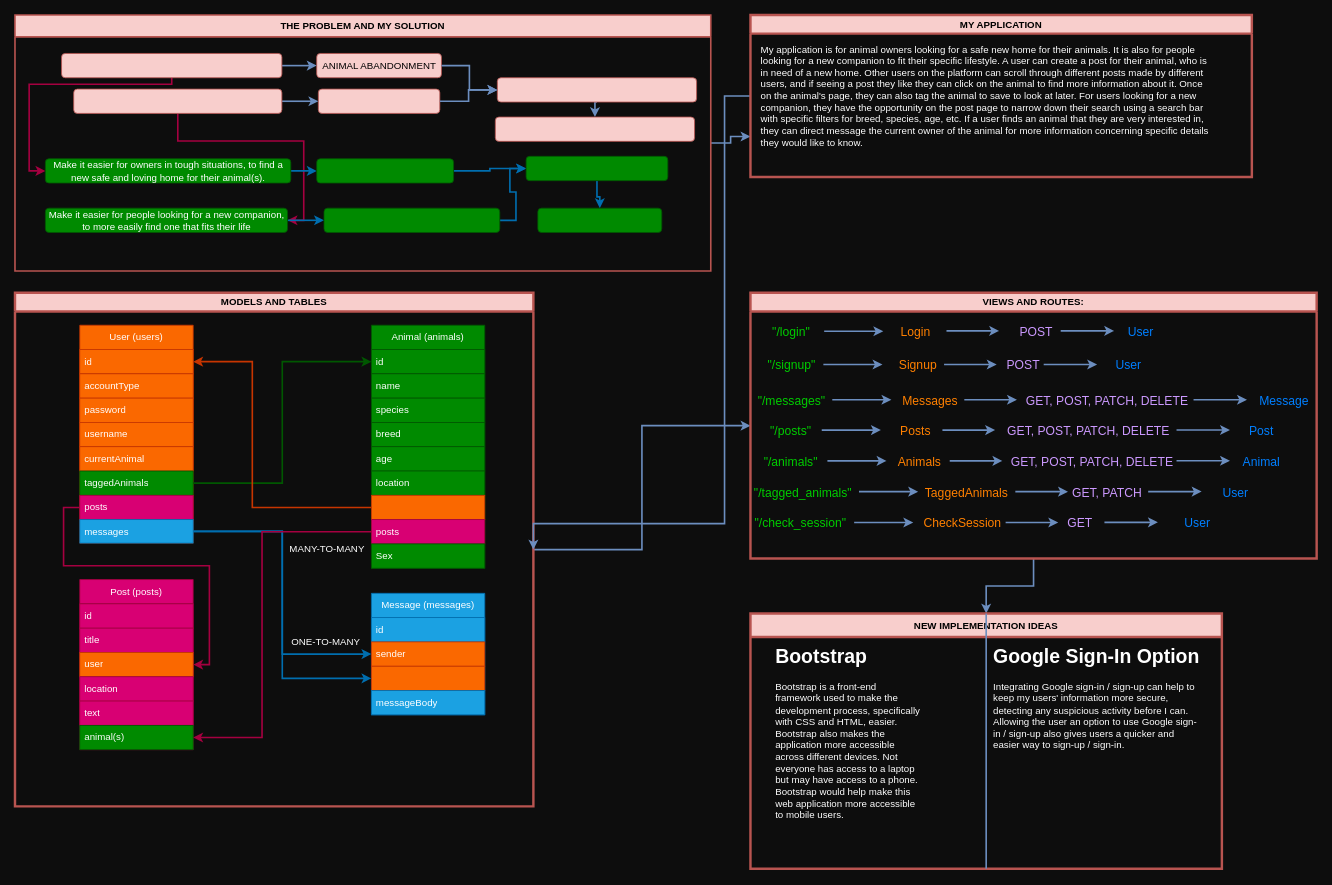
Some shapes in this 1332 by 885 pixel diagram are drawn without their labels. The shapes that lost their labels are listed below. From the top down, each one's centre as x and y in pixels, then its label:
At pixel 171 65: "TOUGH SITUATIONS WITHOUT EASY SAFE SOLUTIONS".
At pixel 177 100: "PEOPLE LOOKING FOR A NEW COMPANION".
At pixel 379 100: "PROFITING PUPPYMILLS".
At pixel 597 89: "KENNEL AND SHELTER OVERCROWDING".
At pixel 595 128: "ANIMAL EUTHANASIA".
At pixel 385 170: "Reduced Animal Abandonment".
At pixel 596 168: "Reduction of animals in shelters and kennels".
At pixel 411 219: "Less people looking for a companion through puppy mills".
At pixel 599 219: "More happy, healthy animals!".
At pixel 428 507: "currentOwner".
At pixel 428 678: "receiver".
